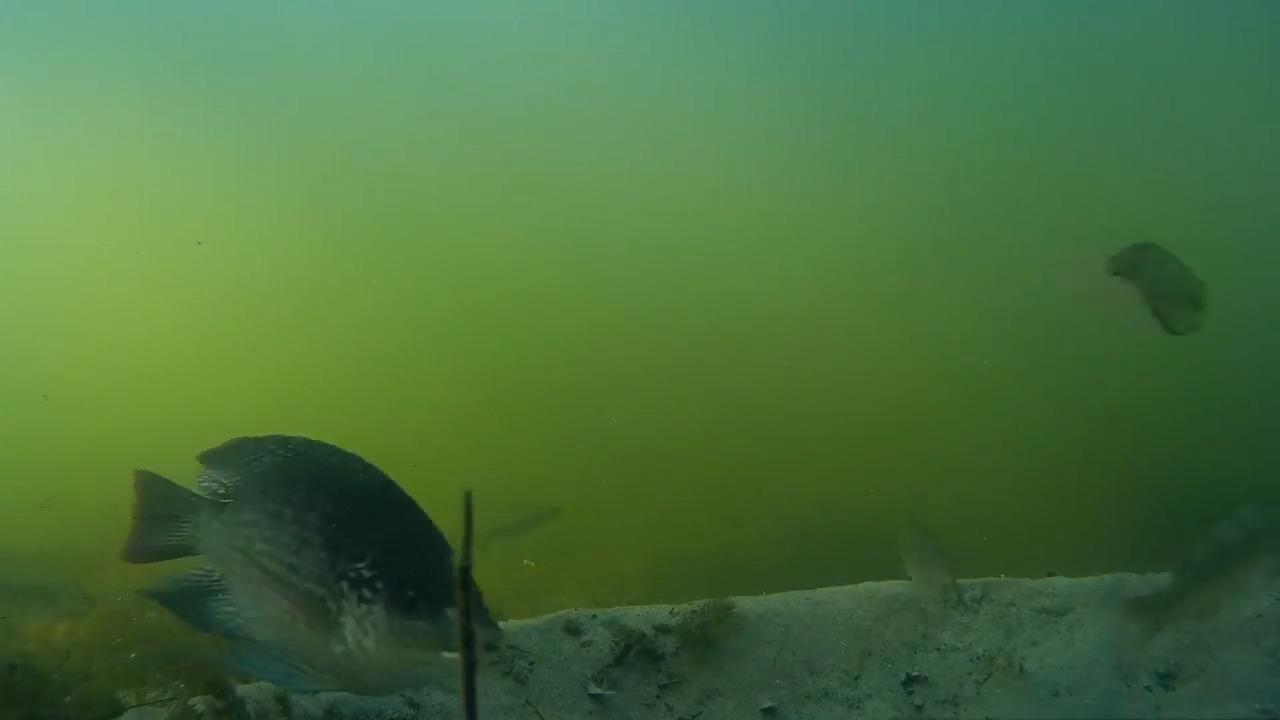Tilapia: (109, 420, 511, 712), (1077, 486, 1280, 706), (1100, 214, 1229, 348), (866, 512, 975, 632)
